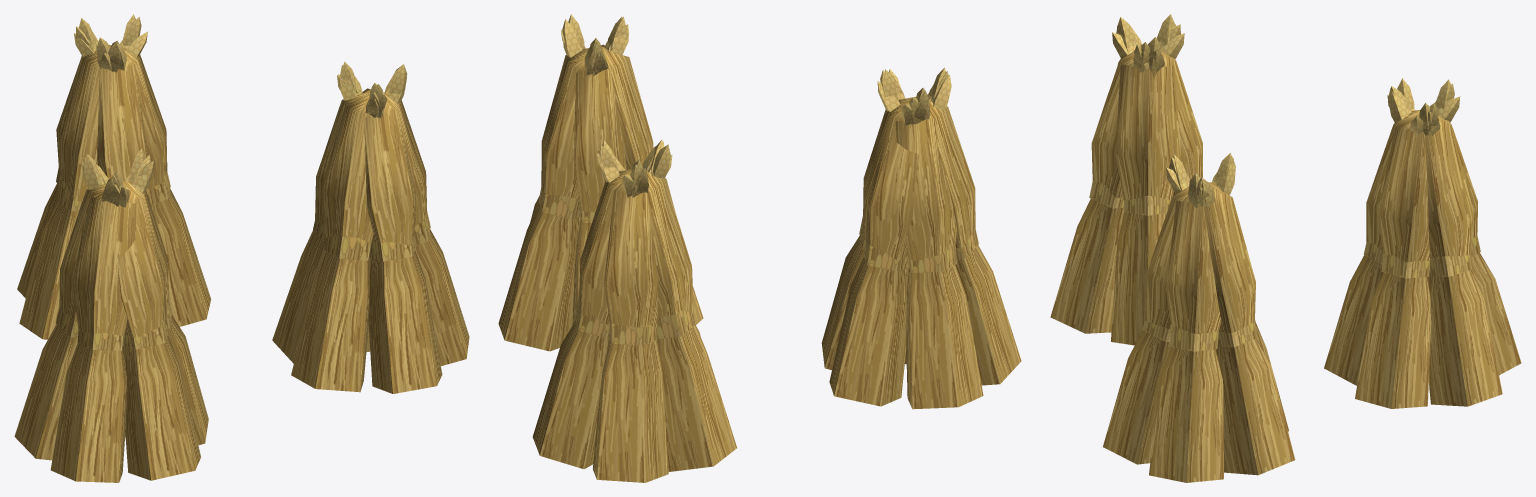
The model's file is SE_Stooks.glb.
3 views of the same model, side by side, from view 1: azimuth 30°, elevation 25°; view 2: azimuth 150°, elevation 25°; view 3: azimuth 270°, elevation 25° (orthographic). The views are drawn at different scales.
Visible parts, largest first — view 1: SE_Stooks; view 2: SE_Stooks; view 3: SE_Stooks.
Boxes of the visible parts, x1,y1,x2,y2 form: SE_Stooks: (14,14,469,482); SE_Stooks: (498,14,1021,482); SE_Stooks: (1050,14,1521,482).
Size of what is drawn, in the model's own units: 1.85 by 1.18 by 1.71.
1 material, 1 textured.
